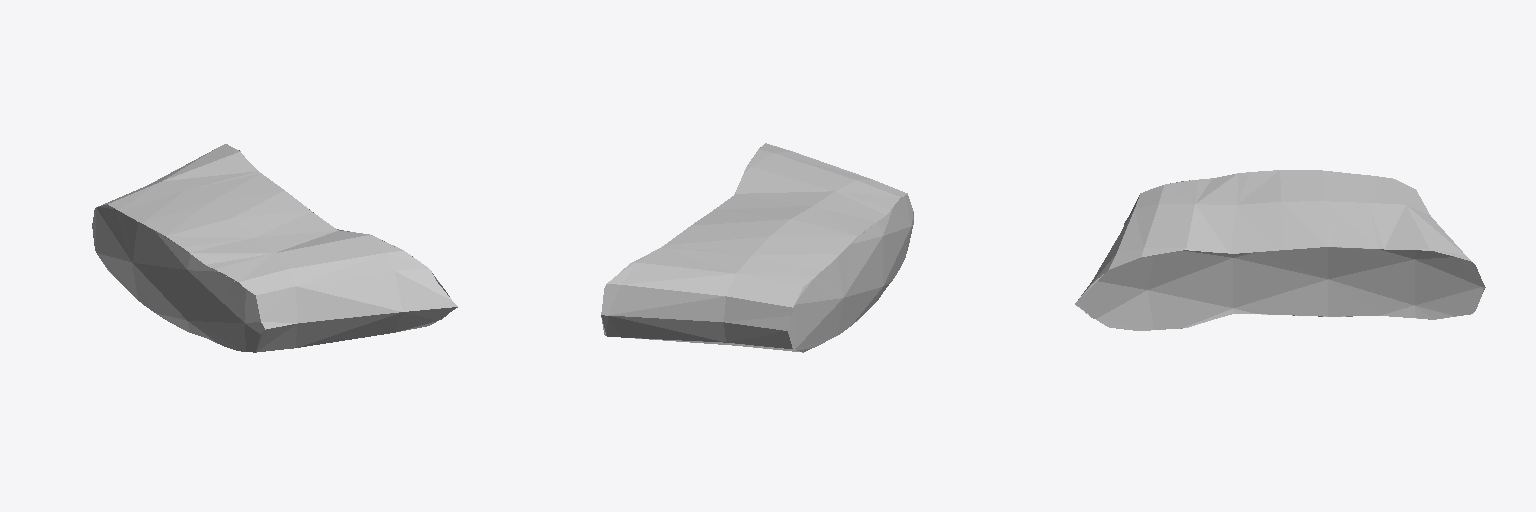
The picture shows the model from 3 angles: view 1: azimuth 30°, elevation 25°; view 2: azimuth 150°, elevation 25°; view 3: azimuth 270°, elevation 25°; orthographic projection.
Visible parts, largest first — view 1: joint_12; view 2: joint_12; view 3: joint_12.
Boxes of the visible parts, <box> form: joint_12: <box>92,144,457,352</box>; joint_12: <box>601,143,913,352</box>; joint_12: <box>1075,170,1485,330</box>.
Size of the model in its own units: 0.0014 by 0.0006 by 0.0024.